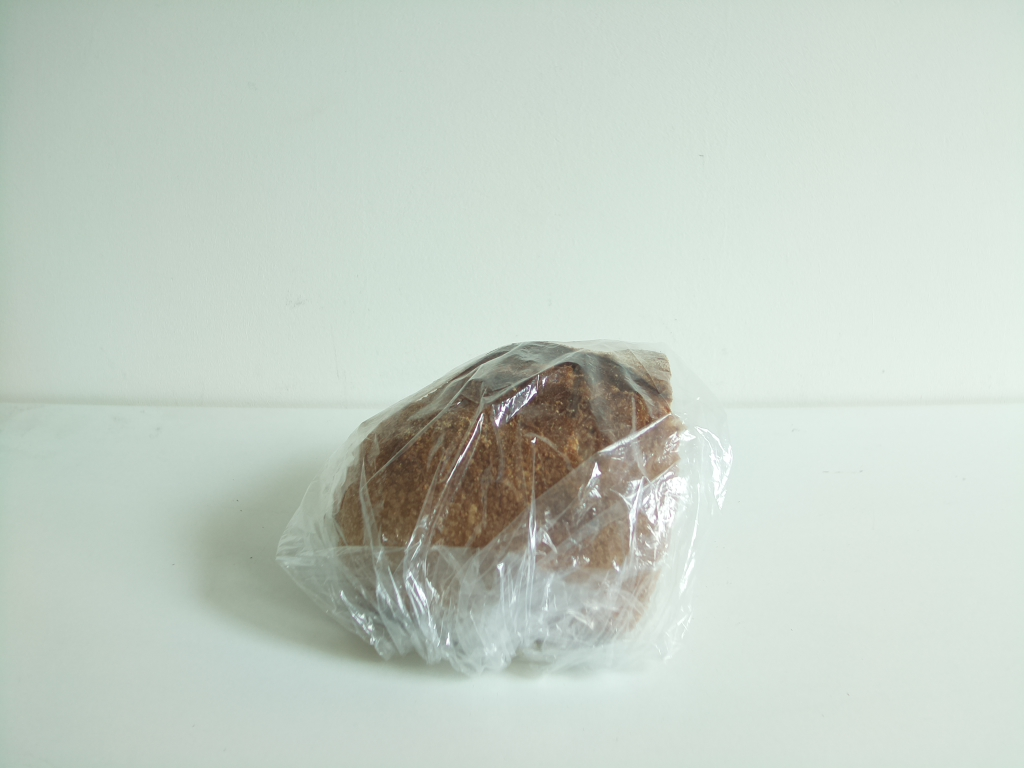bread: (331, 338, 680, 663)
